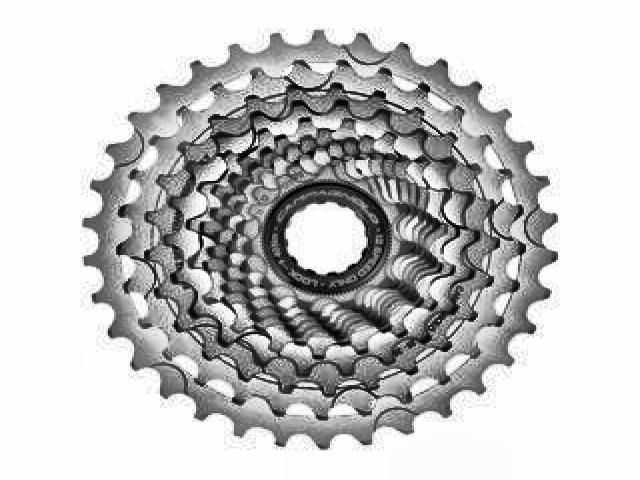cassette: (81, 29, 555, 452)
